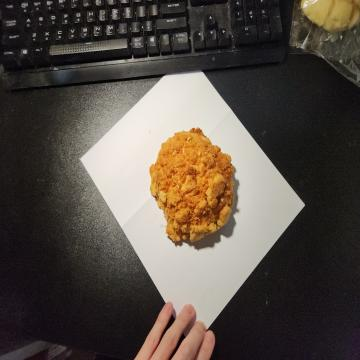soboru_bread: (148, 127, 237, 249)
